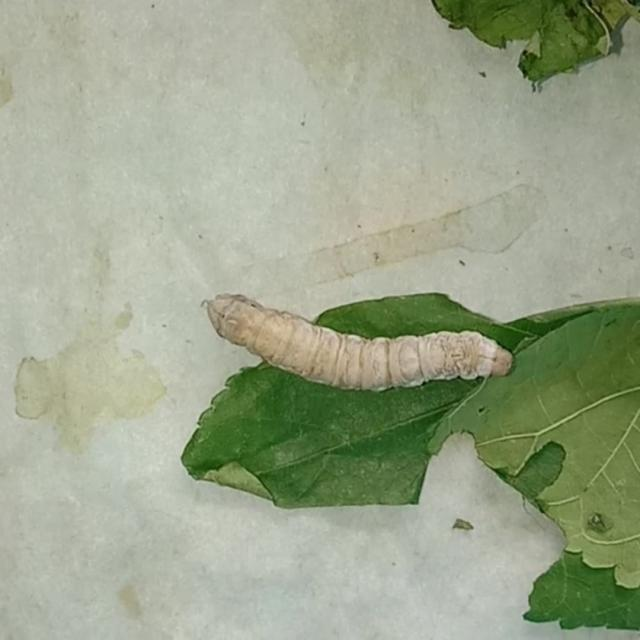Grasserie: (197, 276, 520, 414)
